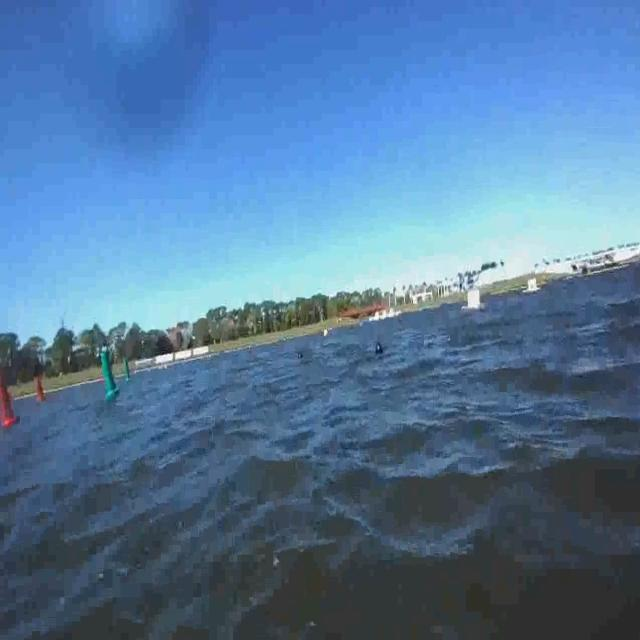green-column-buoy: (98, 346, 120, 397)
red-column-buoy: (0, 367, 18, 429), (32, 367, 44, 401)
